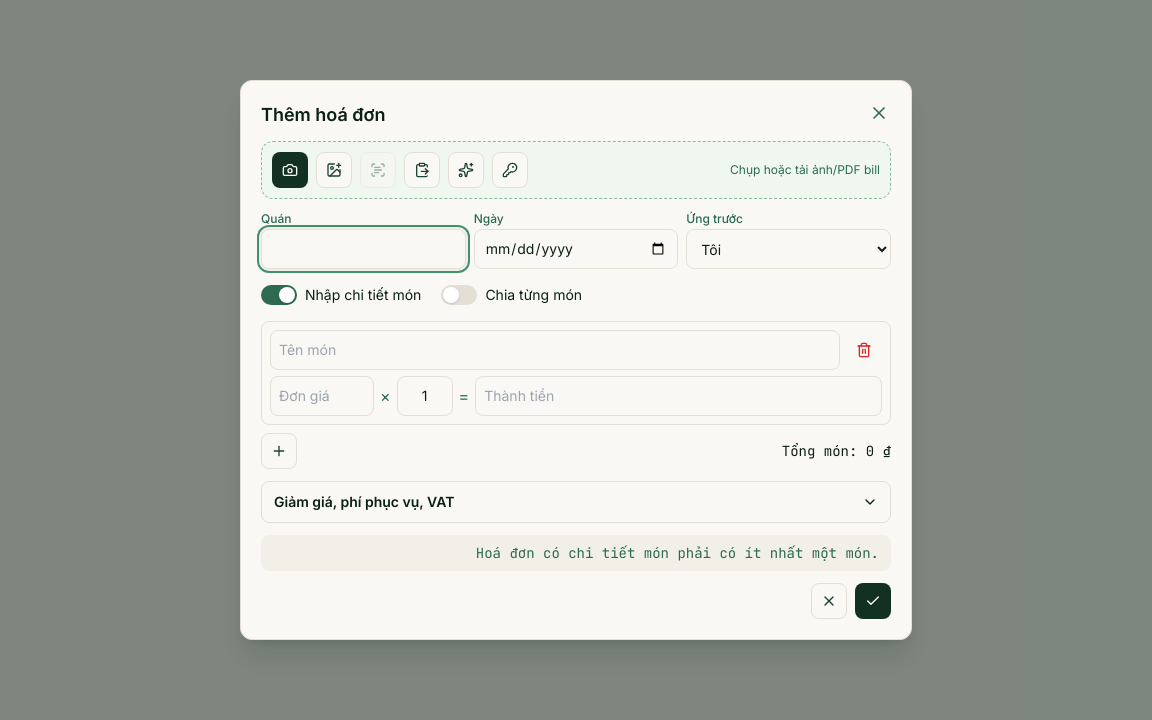
InvoiceFormDialog — giao diện gọn › giảm giá, phí phục vụ và VAT thu gọn mặc định
This screenshot has width=1152, height=720.
Click the button with aria-label "Điều chỉnh" at (364, 502), box [262,482,890,522]
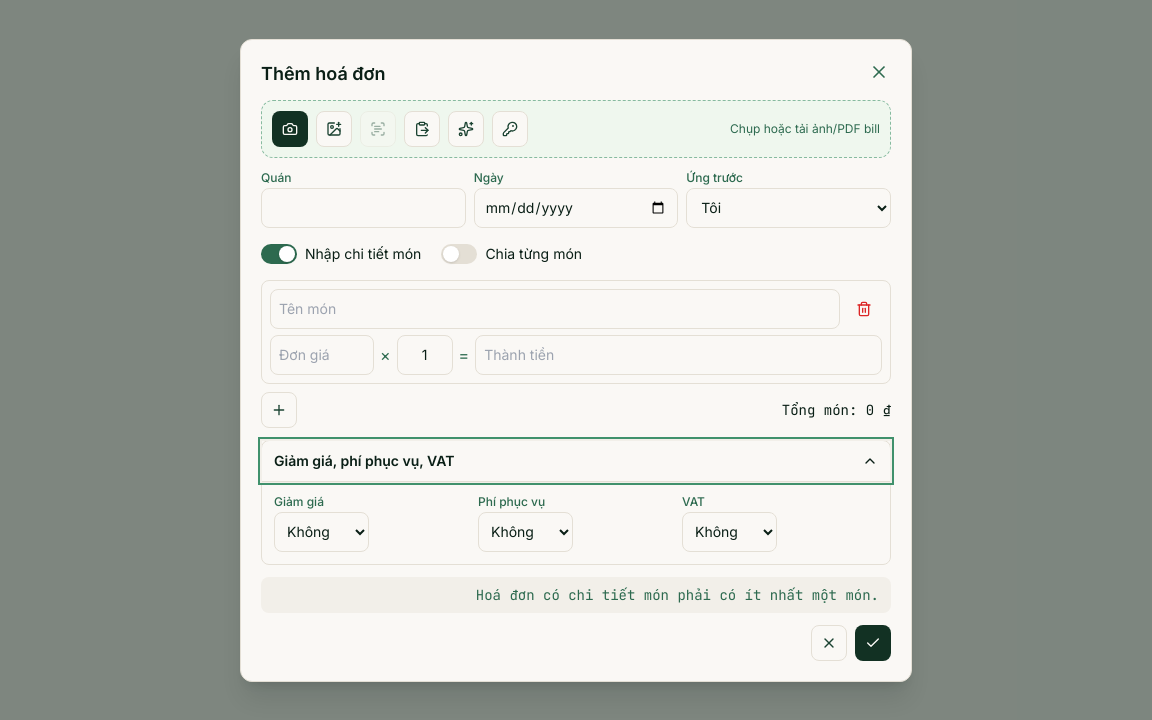
Now the dropdown labelled "VAT" is shown, box [682,512,777,552]
